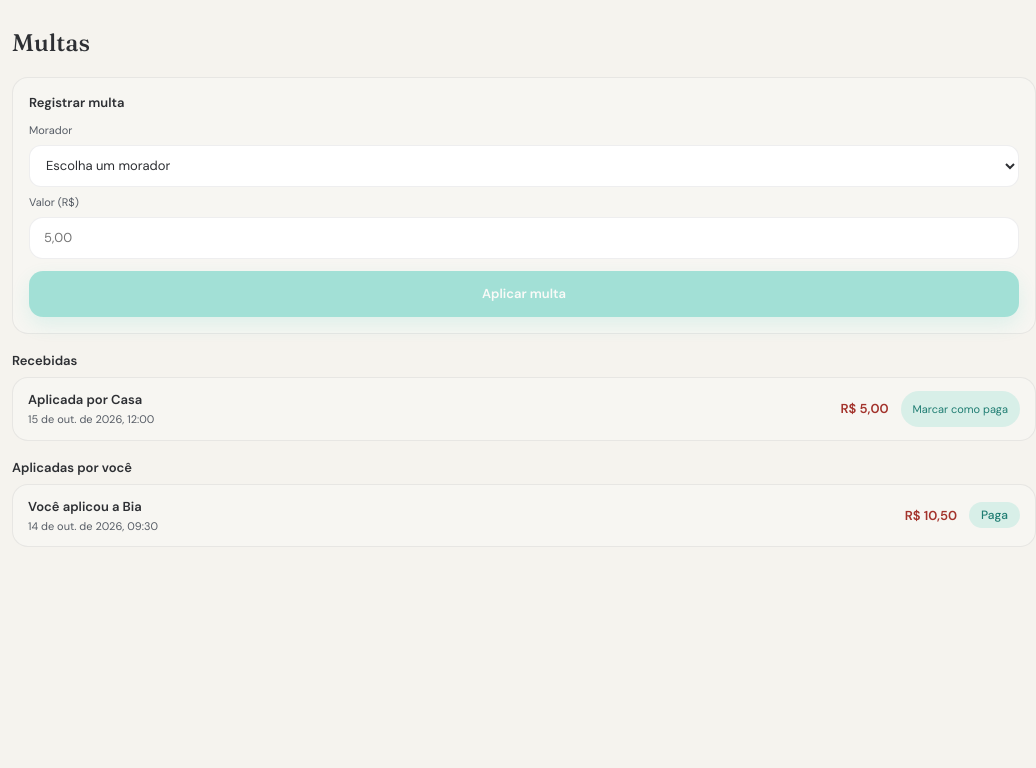
Test: FinesPanel › submits the chosen receiver and numeric amount, then clears the form
The width and height of the screenshot is (1036, 768).
Select "Caio" in the dropdown labelled "Morador": (524, 166) [29,145,1019,187]
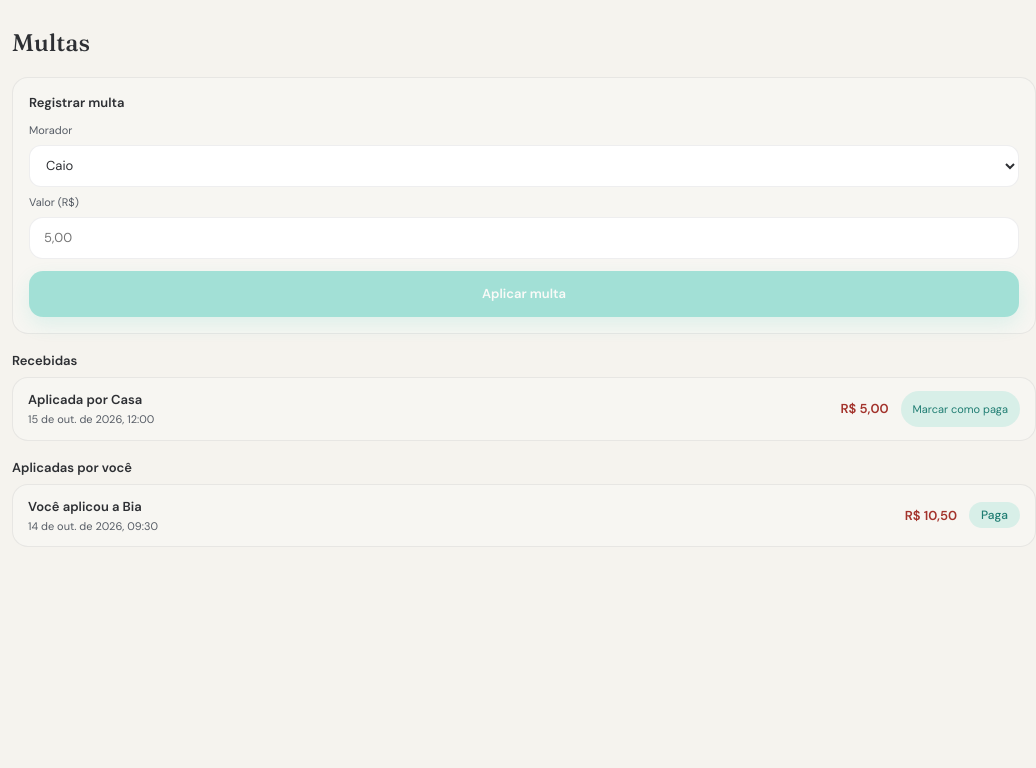
In the field labelled "Valor (R$)": (524, 238) [29,217,1019,259], type "2,5"
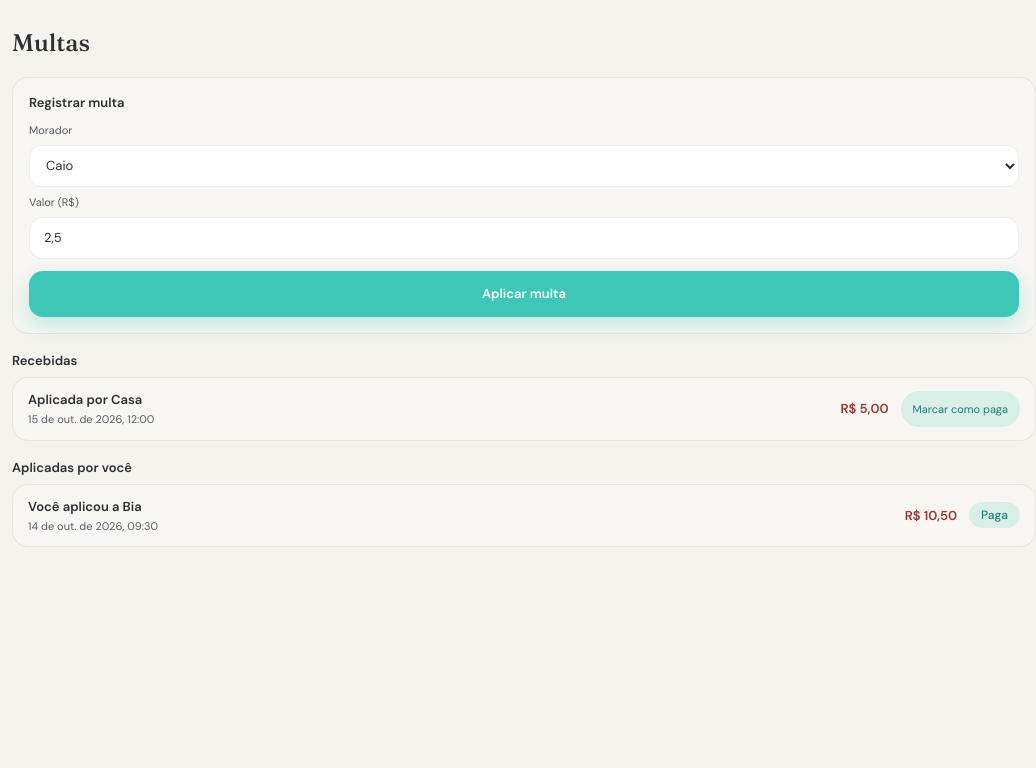
Click the button "Aplicar multa": (524, 294) [29,271,1019,317]
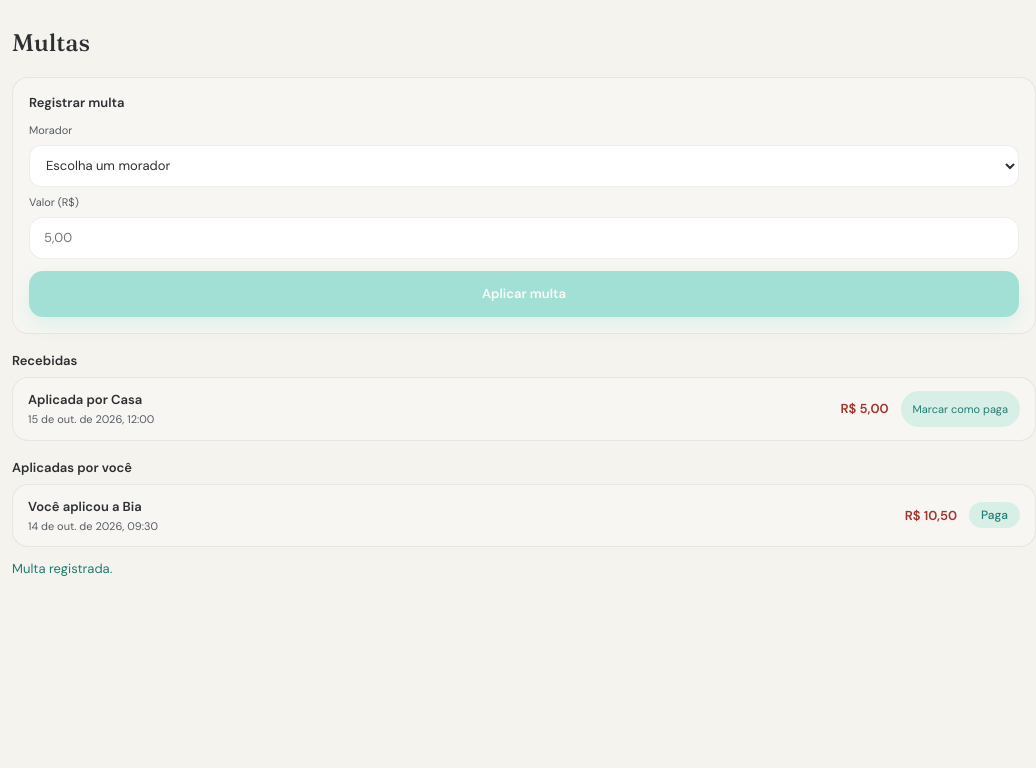
Check: the text "Multa registrada." is shown, box [12,560,112,577]
Check: the field labelled "Valor (R$)" is empty, box [29,217,1019,259]
